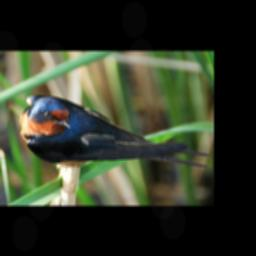Swallow: (17, 93, 211, 169)
